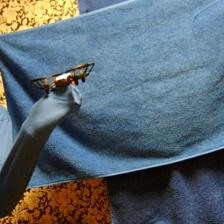drone: (30, 60, 96, 94)
